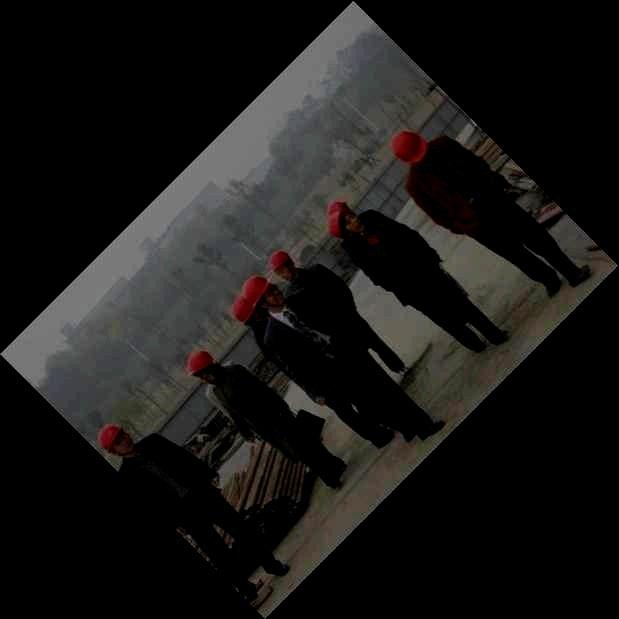helmet: (241, 274, 285, 308), (389, 129, 429, 166), (96, 423, 135, 457), (230, 294, 266, 329), (185, 350, 219, 386), (326, 210, 365, 238), (268, 249, 297, 283), (325, 200, 356, 217)
